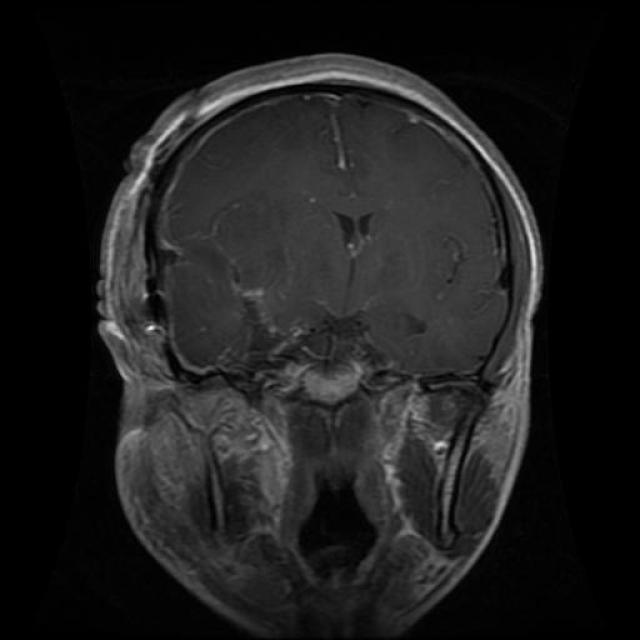glioma: (281, 191, 402, 292)
